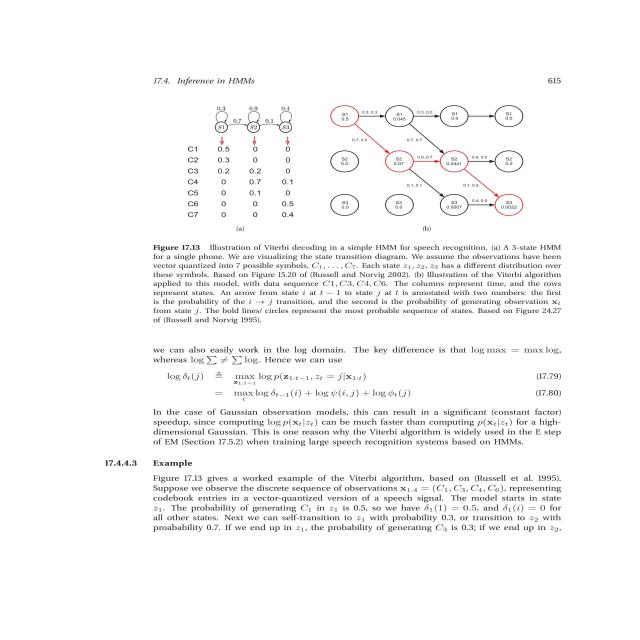diagram: (121, 94, 576, 328)
